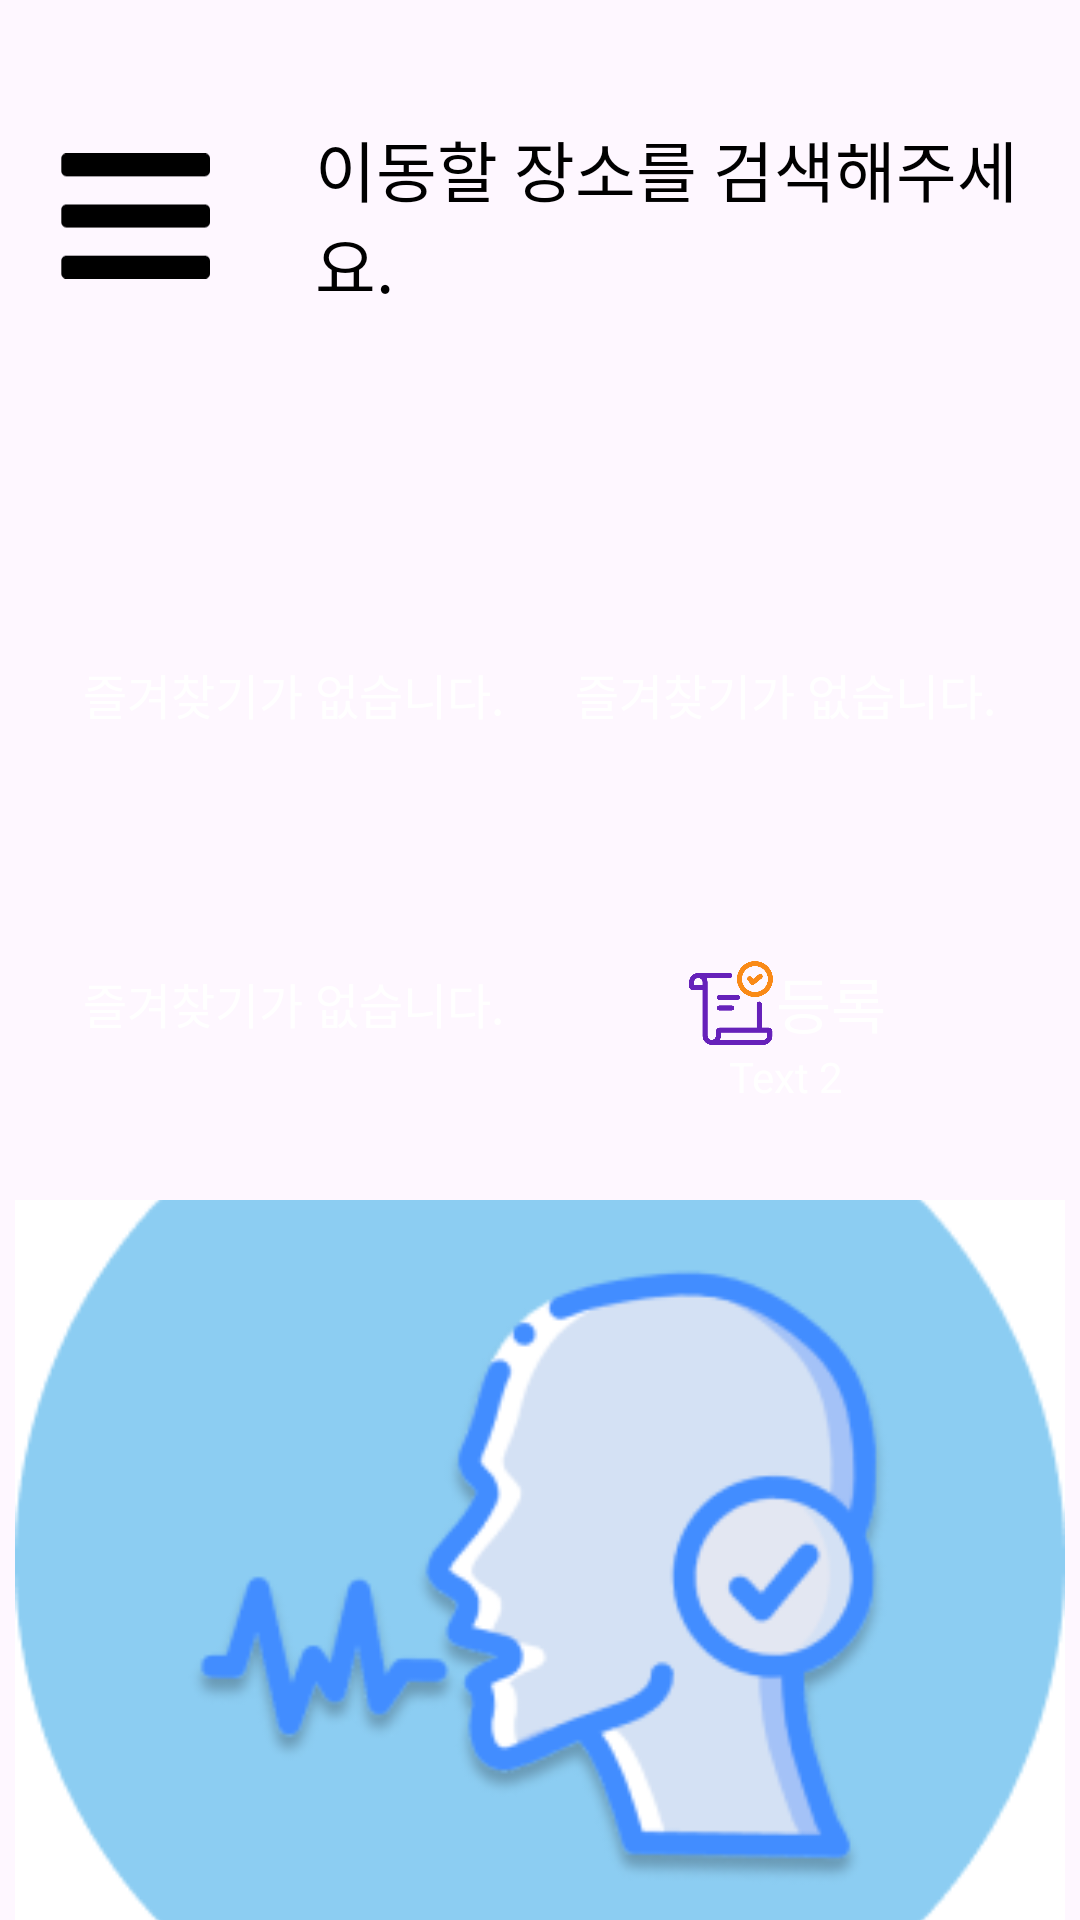

Screen size 1080w x 1920h. Icon name, then its box in pixels as (x1, y1, x2, y2):
hamburger: (61, 153, 210, 279)
